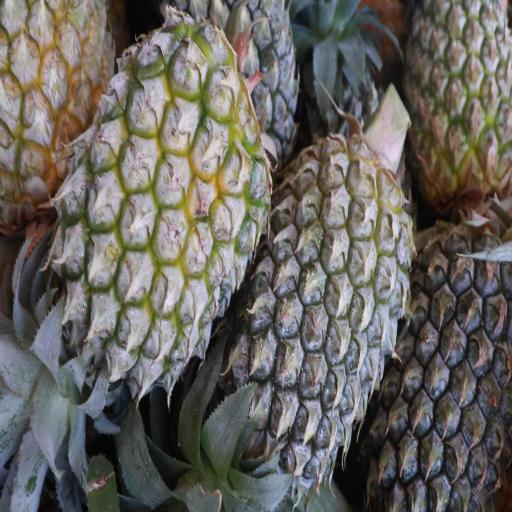------------------------------: (57, 43, 250, 383), (0, 0, 116, 198), (404, 0, 508, 205)
